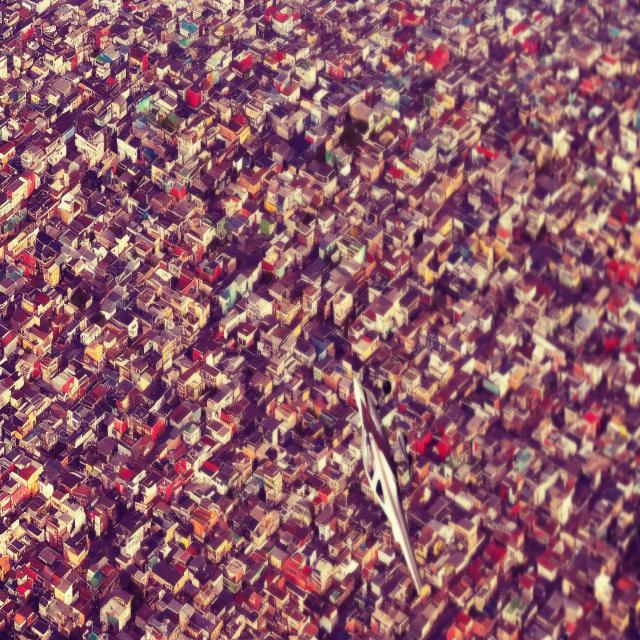airplane: (352, 372, 423, 596)
